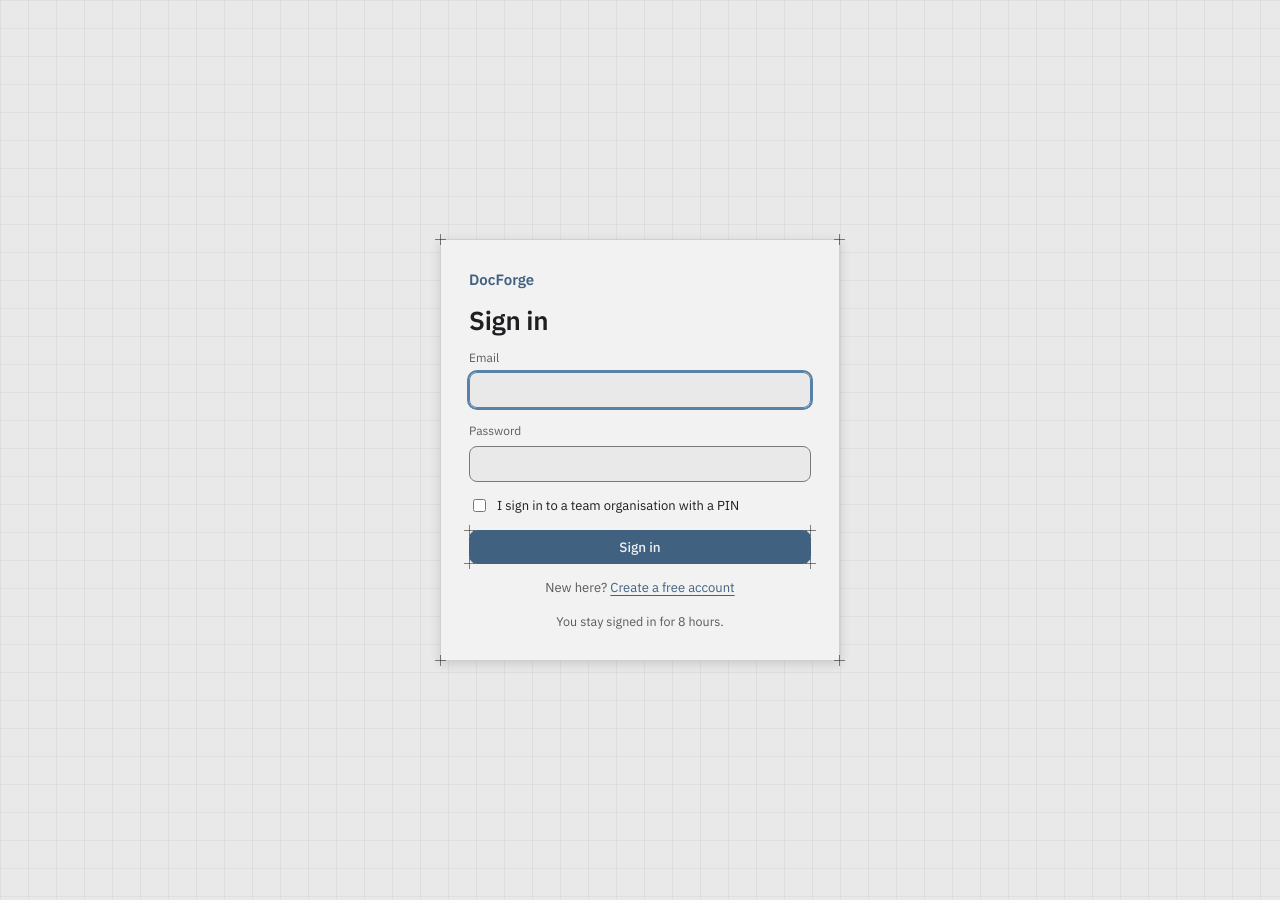
Test: a form's validation error points at its field (React review L8) › sign-in marks the empty email, describes it with the error and moves focus to it
Click the button "Sign in".
click(640, 547)  # box [469,530,811,564]
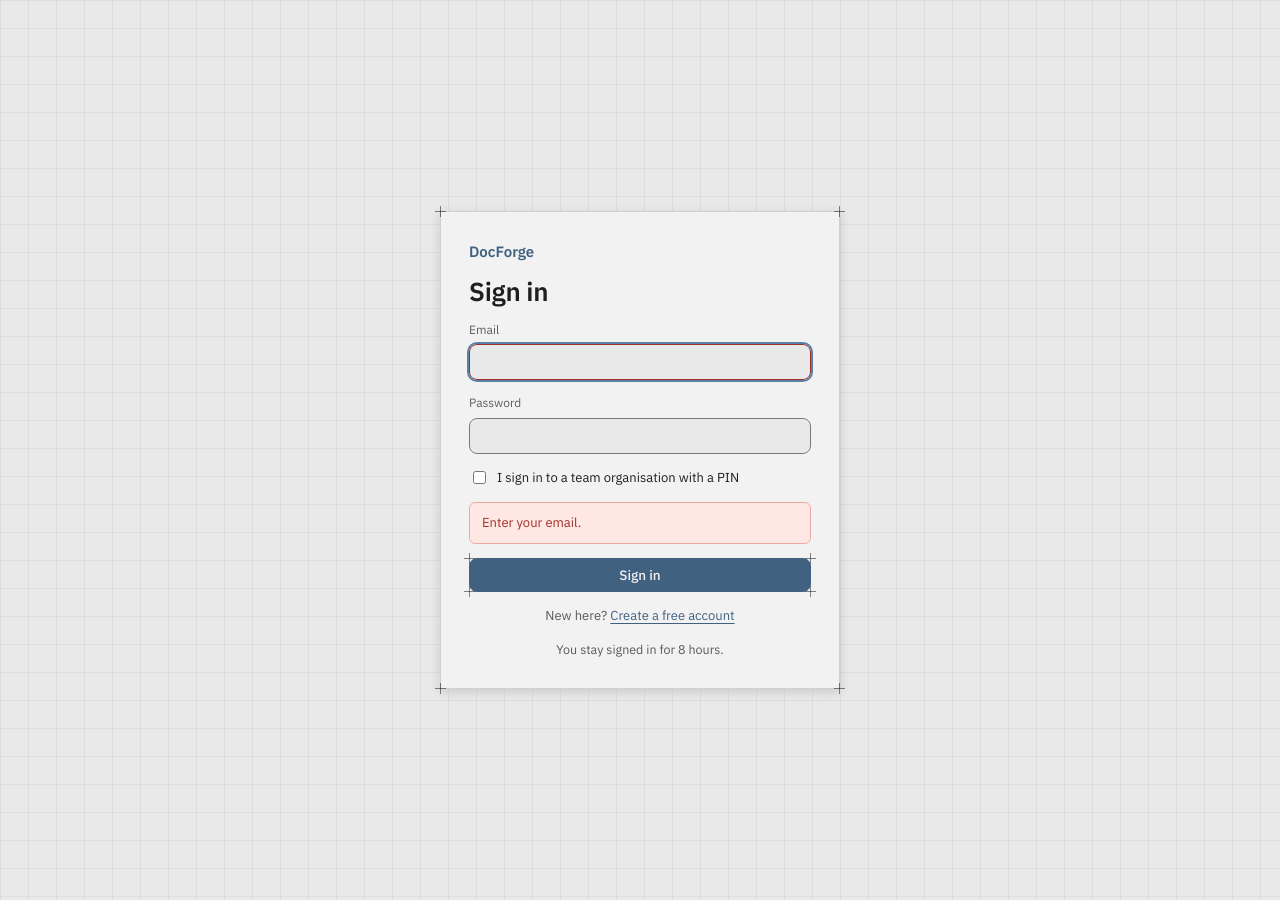
Check: the message reads "Enter your email.", box [482,514,581,531]
